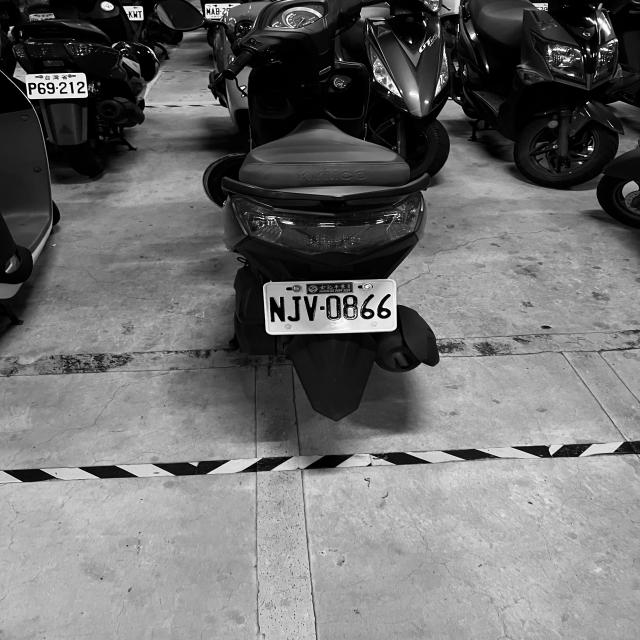-: (318, 305, 326, 311), (55, 86, 59, 89), (220, 10, 222, 12)
0: (324, 295, 342, 321)
1: (67, 80, 76, 94)
2: (76, 81, 86, 94), (58, 82, 68, 94)
6: (359, 292, 376, 320), (375, 292, 392, 319), (38, 82, 46, 95)
8: (342, 293, 358, 320)
9: (46, 82, 56, 94)
A: (212, 8, 216, 15)
B: (215, 8, 220, 15)
J: (287, 294, 304, 322)
K: (128, 10, 133, 18)
M: (206, 8, 211, 15)
N: (267, 296, 287, 322)
T: (138, 11, 142, 18)
V: (301, 294, 319, 321)
W: (133, 11, 138, 18)
plate: (265, 281, 396, 331), (27, 74, 88, 98), (28, 81, 36, 95)
